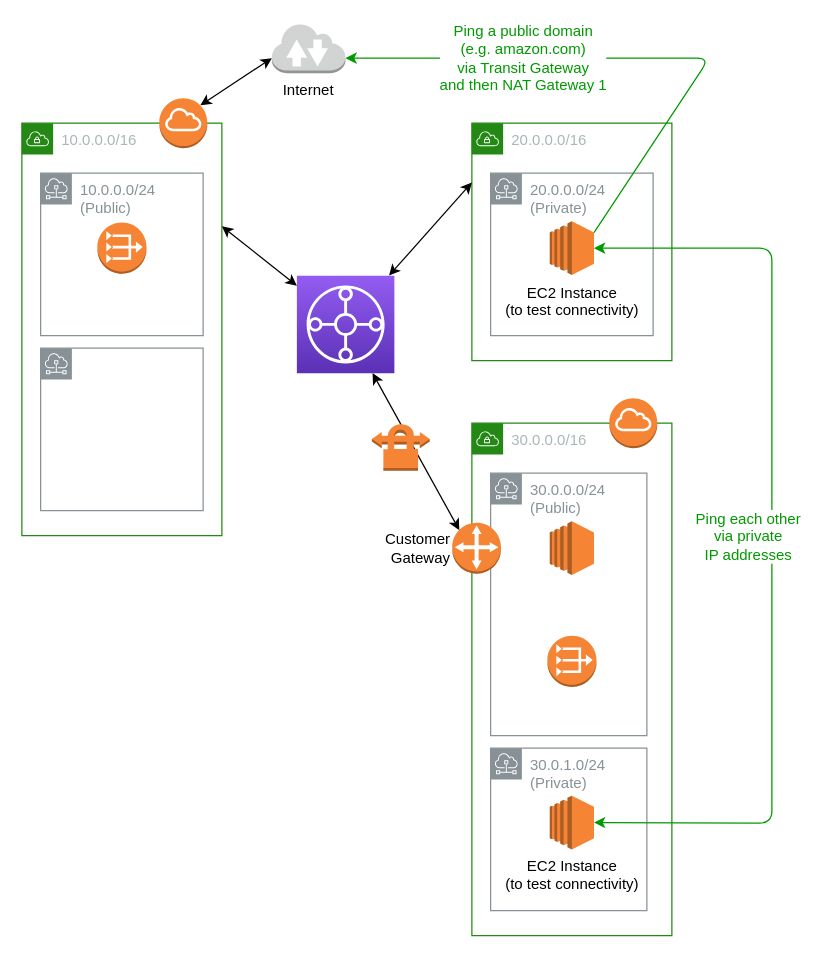
Some shapes in this 821 by 958 pixel diagram are drawn without their labels. The centre of each missing label's shape, as x and y in pixels:
"10.0.1.0/24 (Private)" belongs at (x=121, y=429).
"EC2 Instance (as a VPN Gateway)" belongs at (x=571, y=547).
"IPSec VPN" belongs at (x=400, y=446).
"NAT Gateway 1" belongs at (x=121, y=247).
"NAT Gateway 2" belongs at (x=571, y=660).
"Transit Gateway" belongs at (x=345, y=323).
